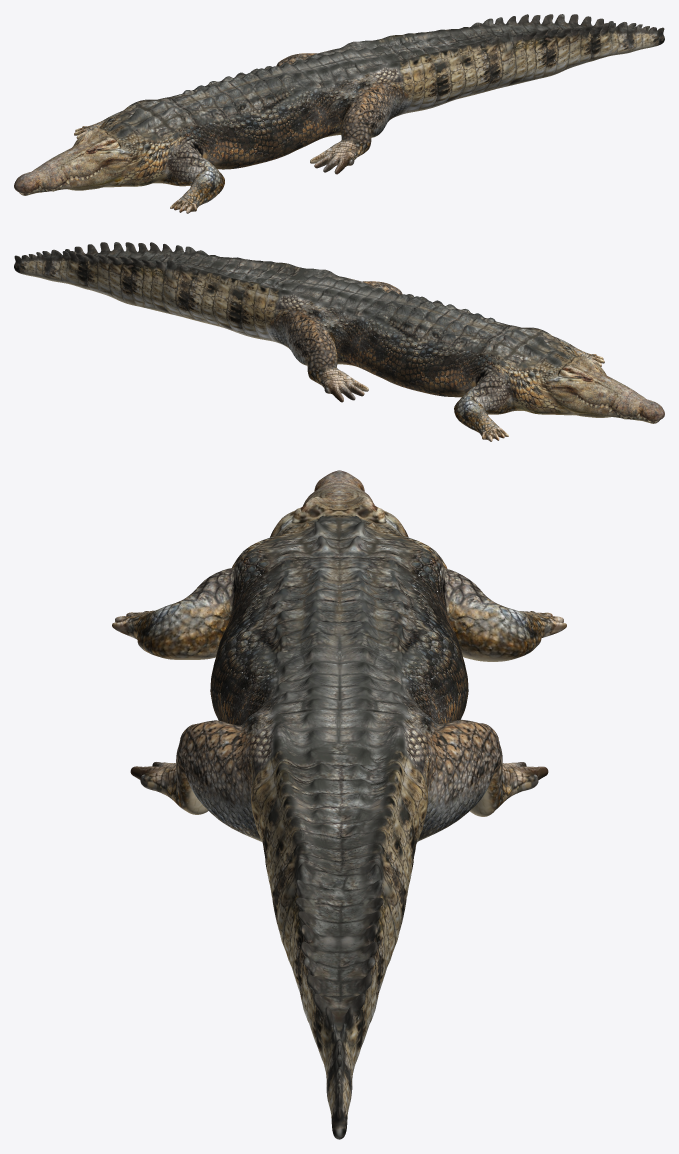
Rendered from crocodile.glb.
3 renders of one model, top to bottom at view 1: azimuth 30°, elevation 25°; view 2: azimuth 150°, elevation 25°; view 3: azimuth 270°, elevation 25°, orthographic. The views are drawn at different scales.
Parts seen in each view (by area): view 1: 12262_Crocodile_v1_l2.003; view 2: 12262_Crocodile_v1_l2.003; view 3: 12262_Crocodile_v1_l2.003.
Part boxes in pixels (bbox=[...]): 12262_Crocodile_v1_l2.003: bbox=[14, 14, 664, 213]; 12262_Crocodile_v1_l2.003: bbox=[14, 242, 664, 441]; 12262_Crocodile_v1_l2.003: bbox=[112, 470, 566, 1139].
Bounding box in the file's own units: 35.04 × 3.55 × 10.63.
1 material, 1 textured.
